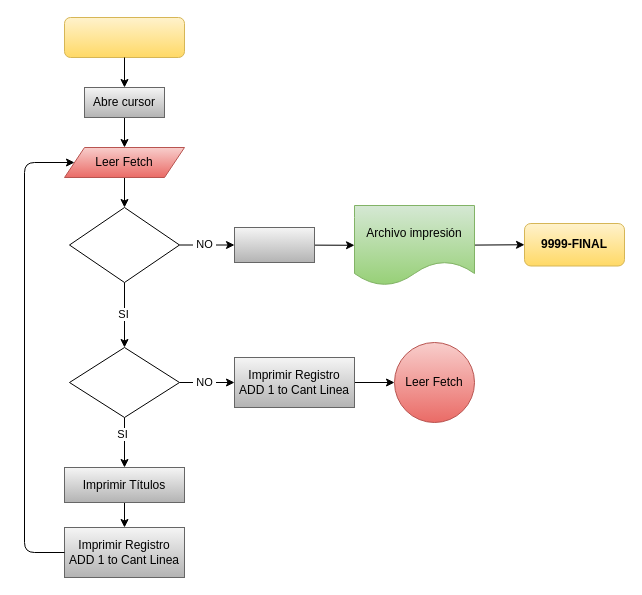
Some shapes in this 642 by 595 pixel diagram are drawn without their labels. The centre of each missing label's shape, as x and y in pixels:
"1000-INICIO" goes at point (124, 37).
"Línea > 15 ?" goes at point (124, 382).
"Mostrar Cantidades" goes at point (274, 244).
"SQLCode = 0 ?" goes at point (124, 244).
